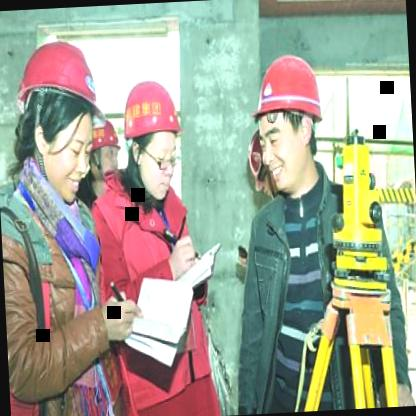helmet: (0, 26, 110, 209), (241, 42, 330, 192), (115, 66, 190, 202), (244, 131, 286, 202), (87, 118, 122, 179)
